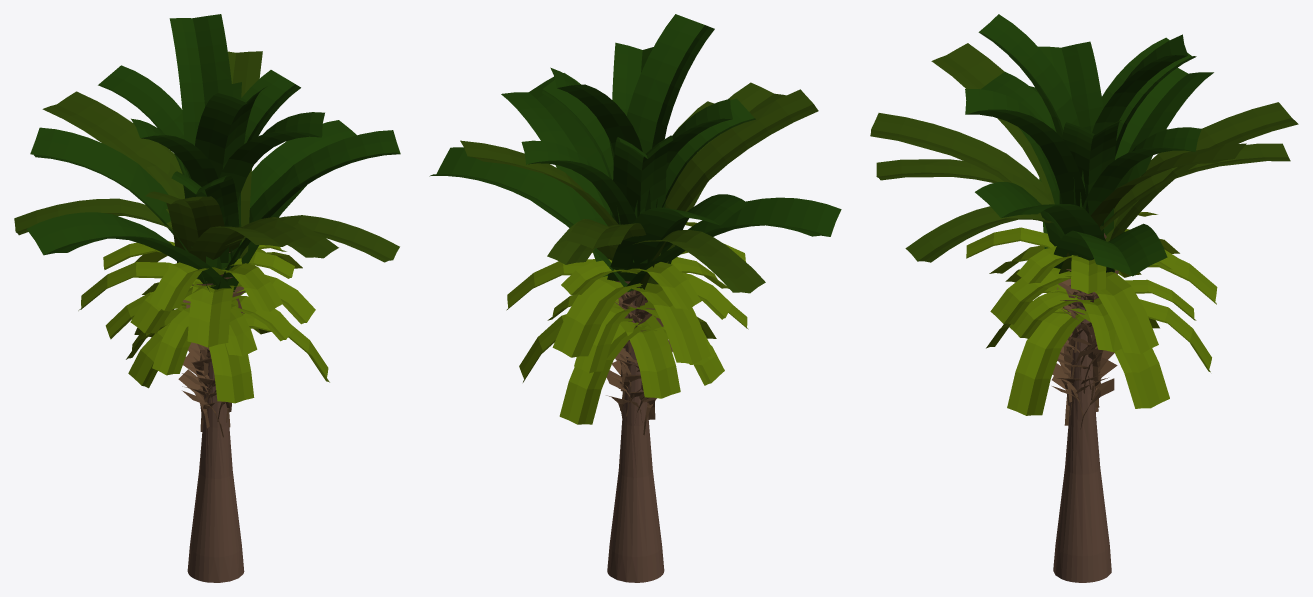
File: banana-plant.lod2.glb
The picture shows the model from 3 angles, left to right: view 1: azimuth 30°, elevation 25°; view 2: azimuth 150°, elevation 25°; view 3: azimuth 270°, elevation 25°; orthographic projection. The views are drawn at different scales.
Visible parts, largest first — view 1: Cylinder_Palm_Bark_tiglajzdy_0; view 2: Cylinder_Palm_Bark_tiglajzdy_0; view 3: Cylinder_Palm_Bark_tiglajzdy_0.
Part boxes in pixels (x1=…): Cylinder_Palm_Bark_tiglajzdy_0: x1=14, y1=14, x2=400, y2=582; Cylinder_Palm_Bark_tiglajzdy_0: x1=429, y1=14, x2=841, y2=582; Cylinder_Palm_Bark_tiglajzdy_0: x1=870, y1=14, x2=1298, y2=582.
Bounding box in the file's own units: 3.06 × 4.2 × 3.04.
